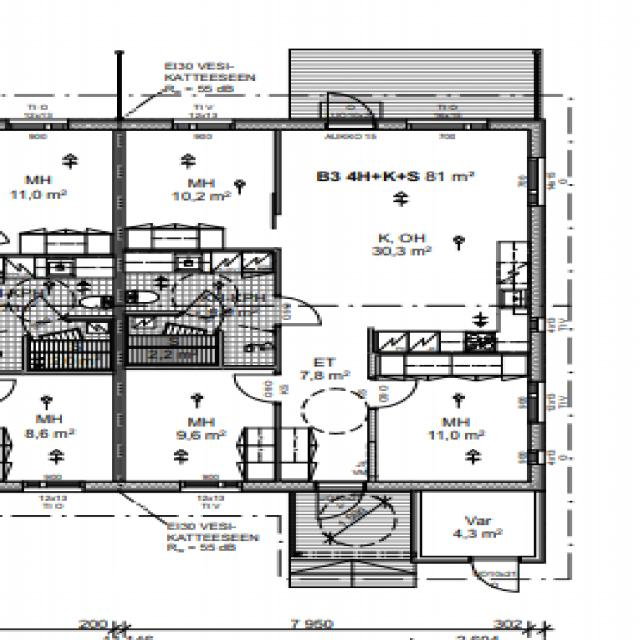door: (180, 290, 240, 332), (316, 481, 365, 525), (326, 86, 375, 130), (470, 556, 517, 594), (275, 296, 323, 325), (367, 380, 415, 408), (234, 374, 281, 402)
